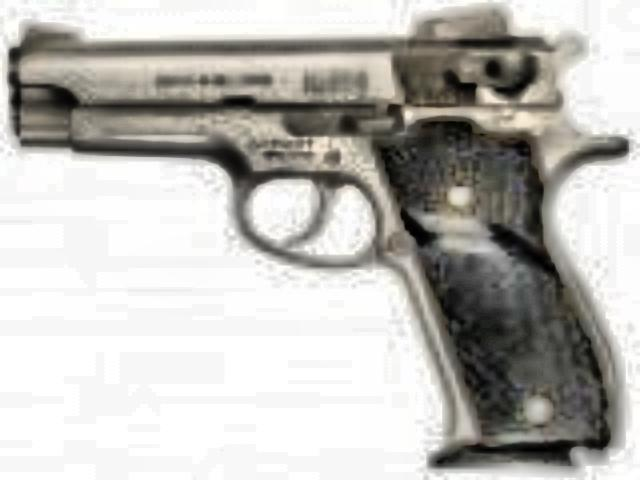pistol: (4, 16, 616, 472)
